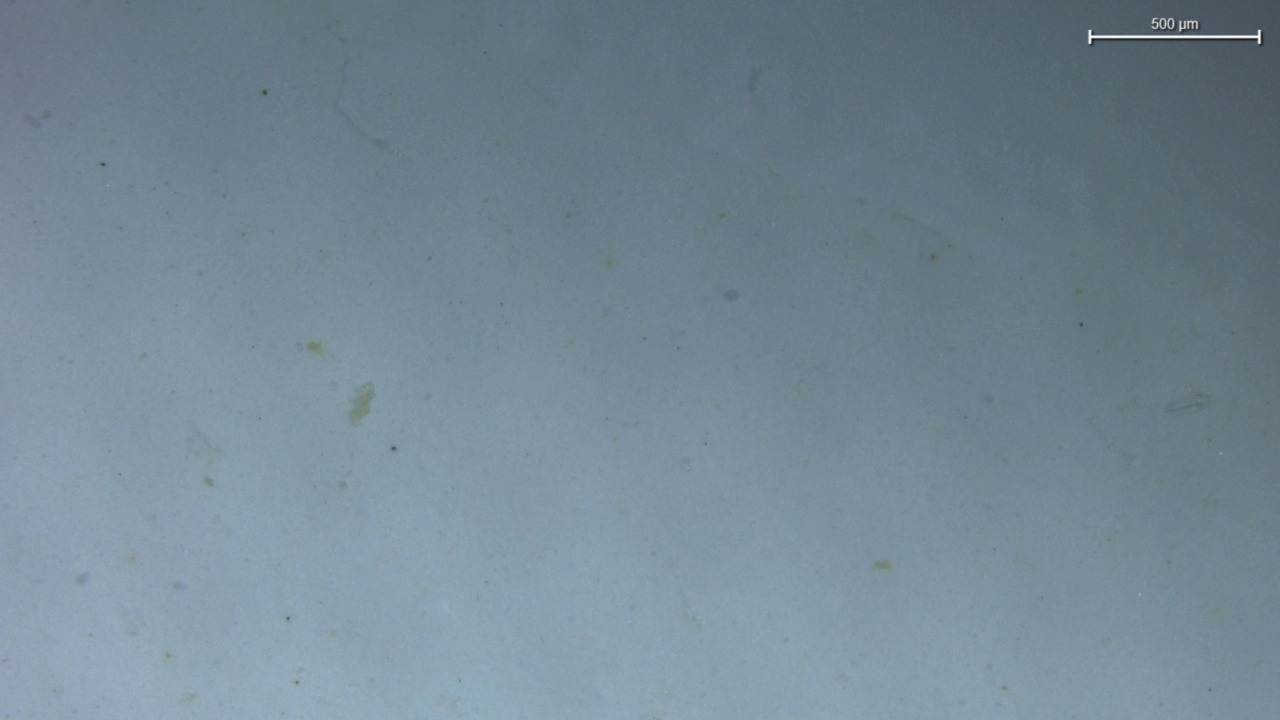microplastic_fragment: (348, 382, 375, 426)
